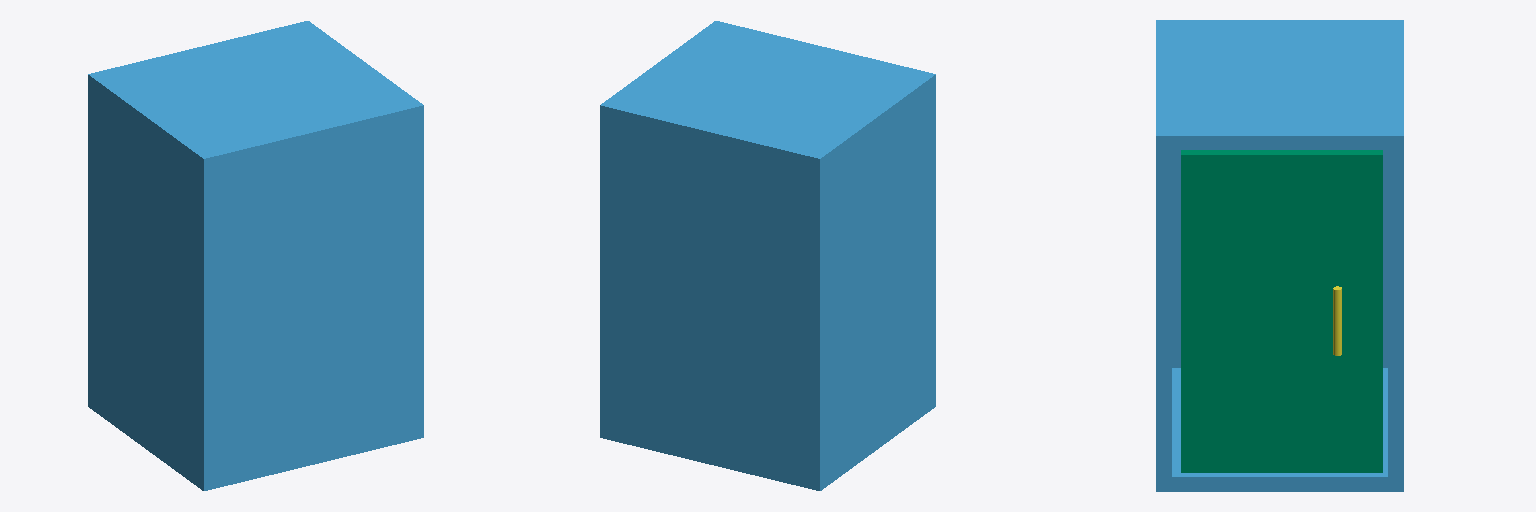
The robot description file, URDF, robot "my_cabinet":
<?xml version="1.0" ?>
<robot name="my_cabinet">
	<link name="world"/>
	<joint name="virtual_joint" type="fixed">
		<parent link="world"/>
		<child link="base_cabinet_link"/>
		<origin xyz="0.0 0.0 0.0" rpy="0.0 0.0 0.0"/>
	</joint>
	<link name="base_cabinet_link">
		<visual>
			<origin xyz="0.0 -0.0025 -0.20725108472738152" rpy="0.0 0.0 0.0"/>
			<geometry>
				<box size="0.3 0.2734174341165978 0.018"/>
			</geometry>
		</visual>
		<collision name="base_cabinet_link_collision_0">
			<origin xyz="0.0 -0.0025 -0.20725108472738152" rpy="0.0 0.0 0.0"/>
			<geometry>
				<box size="0.3 0.2734174341165978 0.018"/>
			</geometry>
		</collision>
		<visual>
			<origin xyz="0.0 0.12520871705829892 0.0" rpy="0.0 0.0 0.0"/>
			<geometry>
				<box size="0.3 0.018 0.43250216945476305"/>
			</geometry>
		</visual>
		<collision name="base_cabinet_link_collision_1">
			<origin xyz="0.0 0.12520871705829892 0.0" rpy="0.0 0.0 0.0"/>
			<geometry>
				<box size="0.3 0.018 0.43250216945476305"/>
			</geometry>
		</collision>
		<visual>
			<origin xyz="0.0 -0.13020871705829892 0.0" rpy="0.0 0.0 0.0"/>
			<geometry>
				<box size="0.3 0.018 0.43250216945476305"/>
			</geometry>
		</visual>
		<collision name="base_cabinet_link_collision_2">
			<origin xyz="0.0 -0.13020871705829892 0.0" rpy="0.0 0.0 0.0"/>
			<geometry>
				<box size="0.3 0.018 0.43250216945476305"/>
			</geometry>
		</collision>
		<visual>
			<origin xyz="0.0 -0.0025 0.20725108472738152" rpy="0.0 0.0 0.0"/>
			<geometry>
				<box size="0.3 0.27341743411659786 0.018"/>
			</geometry>
		</visual>
		<collision name="base_cabinet_link_collision_3">
			<origin xyz="0.0 -0.0025 0.20725108472738152" rpy="0.0 0.0 0.0"/>
			<geometry>
				<box size="0.3 0.27341743411659786 0.018"/>
			</geometry>
		</collision>
		<visual>
			<origin xyz="-0.141 -0.0025 0.0" rpy="0.0 0.0 0.0"/>
			<geometry>
				<box size="0.018 0.27341743411659786 0.43250216945476305"/>
			</geometry>
		</visual>
		<collision name="base_cabinet_link_collision_4">
			<origin xyz="-0.141 -0.0025 0.0" rpy="0.0 0.0 0.0"/>
			<geometry>
				<box size="0.018 0.27341743411659786 0.43250216945476305"/>
			</geometry>
		</collision>
		<inertial>
			<mass value="0.200000"/>
			<inertia ixx="0.004364" ixy="0.0" ixz="0.0" iyy="0.004618" iyz="0.0" izz="0.002746"/>
		</inertial>
	</link>
	<link name="door_link">
		<visual>
			<origin xyz="0.0 -0.11120871705829892 0.0"/>
			<geometry>
				<box size="0.018 0.22241743411659784 0.386502169454763"/>
			</geometry>
		</visual>
		<collision name="door_link_collision">
			<origin xyz="0.0 -0.11120871705829892 0.0"/>
			<geometry>
				<box size="0.018 0.22241743411659784 0.386502169454763"/>
			</geometry>
		</collision>
		<inertial>
			<mass value="0.200000"/>
			<inertia ixx="0.003314" ixy="0.0" ixz="0.0" iyy="0.002495" iyz="0.0" izz="0.000830"/>
		</inertial>
	</link>
	<joint name="door_joint" type="revolute">
		<origin xyz="0.141 -0.11120871705829892 0.0" rpy="0.000000 -0.000000 3.141593"/>
		<axis xyz="0 0 1"/>
		<parent link="base_cabinet_link"/>
		<child link="door_link"/>
		<limit effort="50" lower="-1.658062789394613" upper="0" velocity="10"/>
		<dynamics friction="3.5" damping="3.5"/>
	</joint>
	<link name="handle_link">
		<visual>
			<origin xyz="0.0 0.0 0.0" rpy="0.0 0.0 0.0"/>
			<geometry>
				<cylinder length="0.08" radius="0.005"/>
			</geometry>
		</visual>
		<collision name="handle_link_collision_0">
			<origin xyz="0.0 0.0 0.0" rpy="0.0 0.0 0.0"/>
			<geometry>
				<cylinder length="0.08" radius="0.005"/>
			</geometry>
		</collision>
		<visual>
			<origin xyz="-0.01 0.0 0.02" rpy="0.0 1.5707963267948966 0.0"/>
			<geometry>
				<cylinder length="0.02" radius="0.003"/>
			</geometry>
		</visual>
		<collision name="handle_link_collision_1">
			<origin xyz="-0.01 0.0 0.02" rpy="0.0 1.5707963267948966 0.0"/>
			<geometry>
				<cylinder length="0.01" radius="0.003"/>
			</geometry>
		</collision>
		<visual>
			<origin xyz="-0.01 0.0 -0.02" rpy="0.0 1.5707963267948966 0.0"/>
			<geometry>
				<cylinder length="0.02" radius="0.003"/>
			</geometry>
		</visual>
		<collision name="handle_link_collision_2">
			<origin xyz="-0.01 0.0 -0.02" rpy="0.0 1.5707963267948966 0.0"/>
			<geometry>
				<cylinder length="0.02" radius="0.003"/>
			</geometry>
		</collision>
		<inertial>
			<mass value="0.050000"/>
			<inertia ixx="0.000027" ixy="0.0" ixz="0.0" iyy="0.000029" iyz="0.0" izz="0.000003"/>
		</inertial>
	</link>
	<joint name="handle_joint" type="fixed">
		<origin xyz="-0.028999999999999998 -0.17241743411659782 0.0" rpy="0.000000 -0.000000 3.141593"/>
		<parent link="door_link"/>
		<child link="handle_link"/>
	</joint>
	<gazebo reference="base_cabinet_link">
		<sensor name="main_sensor" type="contact">
			<selfCollide>true</selfCollide>
			<alwaysOn>true</alwaysOn>
			<updateRate>5.0</updateRate>
			<material>Gazebo/Red</material>
			<contact>
				<collision>base_cabinet_link_collision_0_collision</collision>
				<collision>base_cabinet_link_collision_1_collision</collision>
				<collision>base_cabinet_link_collision_2_collision</collision>
				<collision>base_cabinet_link_collision_3_collision</collision>
				<collision>base_cabinet_link_collision_4_collision</collision>
			</contact>
			<plugin name="gazebo_ros_bumper_controller" filename="libgazebo_ros_bumper.so">
				<bumperTopicName>/contact</bumperTopicName>
				<frameName>world</frameName>
			</plugin>
		</sensor>
	</gazebo>
	<gazebo reference="door_link">
		<sensor name="main_sensor" type="contact">
			<selfCollide>true</selfCollide>
			<alwaysOn>true</alwaysOn>
			<updateRate>5.0</updateRate>
			<material>Gazebo/Red</material>
			<contact>
				<collision>door_link_collision_collision</collision>
			</contact>
			<plugin name="gazebo_ros_bumper_controller" filename="libgazebo_ros_bumper.so">
				<bumperTopicName>/contact_door</bumperTopicName>
				<frameName>contact_door</frameName>
			</plugin>
		</sensor>
	</gazebo>
	<gazebo reference="door_link">
		<mu>3.0</mu>
		<mu2>3.0</mu2>
		<kp>10000000</kp>
		<kd>100</kd>
	</gazebo>
</robot>

--- Render facts (derived) ---
3 views of the same robot in one strip: view 1: azimuth 30°, elevation 25°; view 2: azimuth 150°, elevation 25°; view 3: azimuth 270°, elevation 25° (orthographic).
Model my_cabinet with 4 links and 3 joints (1 revolute, 2 fixed), rooted at world, posed every joint at zero.
Visible links, largest first — view 1: base_cabinet_link; view 2: base_cabinet_link; view 3: door_link, base_cabinet_link, handle_link.
Link boxes in pixels (<box>): base_cabinet_link: <box>88,21,423,490</box>; base_cabinet_link: <box>600,21,935,490</box>; door_link: <box>1181,150,1382,472</box>; base_cabinet_link: <box>1156,20,1403,491</box>; handle_link: <box>1333,286,1341,355</box>.
Bounding box of the posed robot: 0.325 × 0.2734 × 0.4325 m (x, y, z).
Geometry: primitives only (box / cylinder / sphere), no mesh files.
